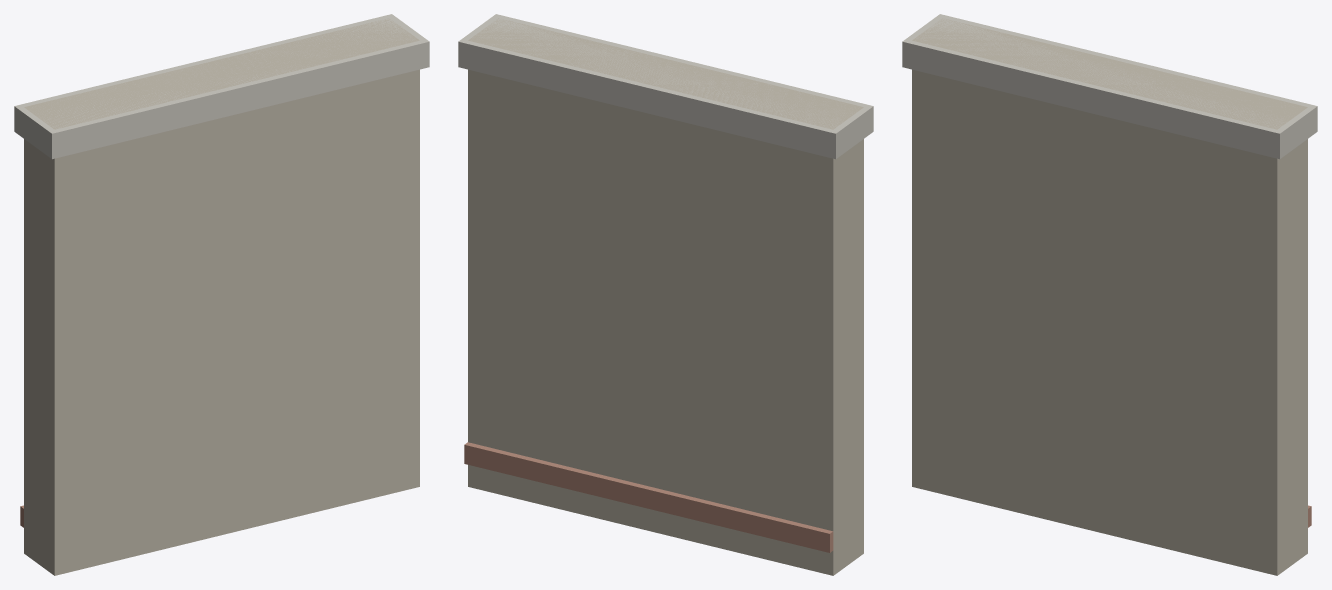
Rendered from iz3_build_defense_stone_wall_01.glb.
The picture shows the model from 3 angles, left to right: view 1: azimuth 30°, elevation 25°; view 2: azimuth 150°, elevation 25°; view 3: azimuth 330°, elevation 25°; orthographic projection.
Parts seen in each view (by area): view 1: wall, cornice; view 2: wall, cornice, sill; view 3: wall, cornice.
Part boxes in pixels (<box>): wall: <box>24,18,419,575</box>; cornice: <box>14,14,429,159</box>; wall: <box>468,18,863,575</box>; cornice: <box>458,14,873,159</box>; sill: <box>464,442,833,552</box>; wall: <box>912,18,1307,575</box>; cornice: <box>902,14,1317,159</box>.
Bounding box in the file's own units: 2.48 × 2.8 × 0.43.
